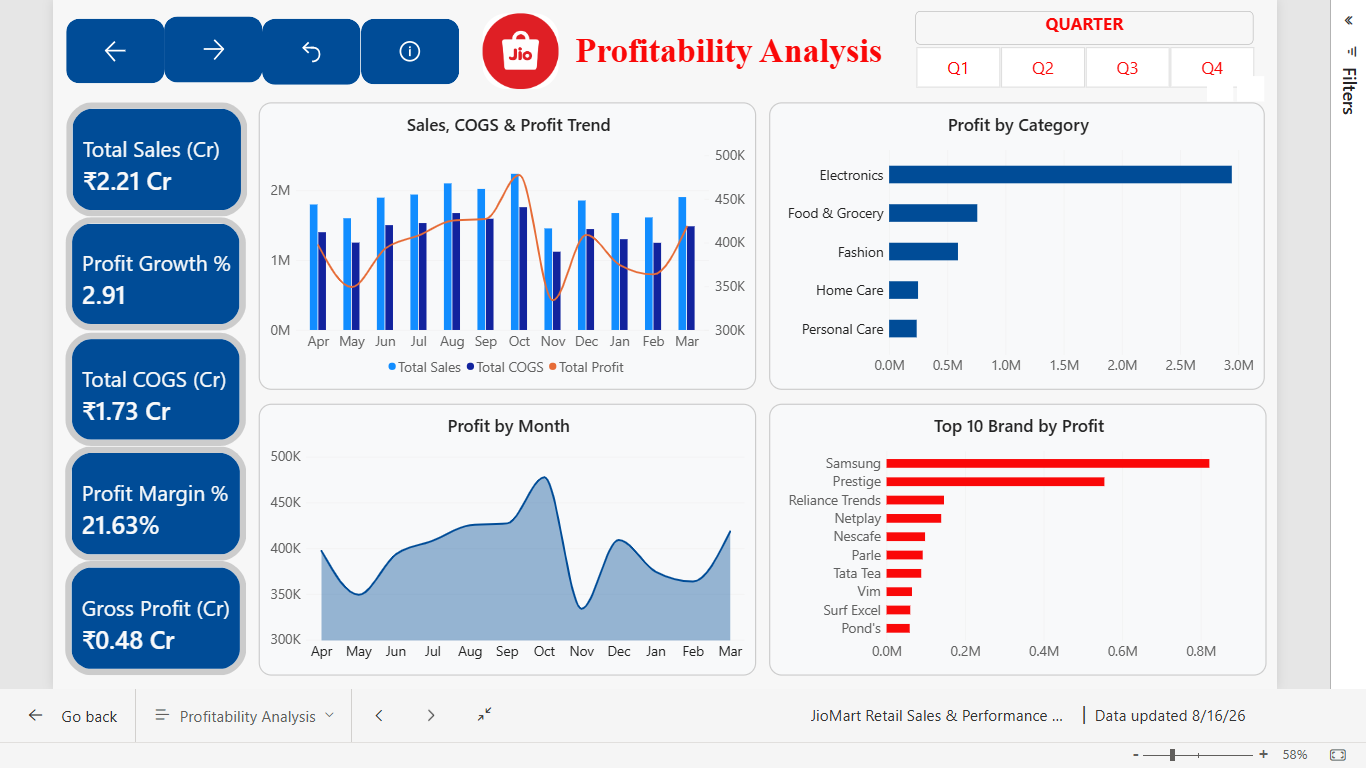

What the dashboard file says about the page in this screenshot:
{"tool":"powerbi","page":{"name":"Profitability Analysis","canvas":[1920,1080],"ordinal":1},"visuals":[{"type":"textbox","box":[1352.5,17.5,530,52.5],"z":0},{"type":"image","box":[672.2,19.8,121.2,119],"z":1000},{"type":"slicer","fields":{"Values":["Date.Quarter"]},"box":[1333.5,72.7,568.7,66.1],"z":2000},{"type":"shape","box":[819.9,19.8,513.6,119],"z":3000},{"type":"cardVisual","fields":{"Data":["Sales Measures.Total Sales (Cr)"]},"box":[19.8,160.9,284.2,179.7],"z":4000},{"type":"cardVisual","fields":{"Data":["Profitability Measures.Total Profit (Cr)"]},"box":[18.8,879.6,284.2,179.7],"z":5000},{"type":"cardVisual","fields":{"Data":["Sales Measures.Total COGS (Cr)"]},"box":[18.8,520.2,284.2,179.7],"z":6000},{"type":"cardVisual","fields":{"Data":["Profitability Measures.Profit Margin %"]},"box":[18.8,699.9,284.2,179.7],"z":7000},{"type":"cardVisual","fields":{"Data":["Profitability Measures.Profit Growth %"]},"box":[18.8,340.6,284.2,179.7],"z":8000},{"type":"lineClusteredColumnComboChart","title":"Sales, COGS & Profit Trend","fields":{"Category":["Date.Month Short"],"Y":["Sales Measures.Total Sales","Sales Measures.Total COGS"],"Y2":["Profitability Measures.Total Profit"]},"box":[321.8,160.9,780.3,450.5],"z":9000},{"type":"clusteredBarChart","title":"Profit by Category","fields":{"Category":["Sales.Category","Sales.Brand"],"Y":["Profitability Measures.Total Profit"]},"box":[1123.6,160.9,777.7,450.5],"z":10000},{"type":"clusteredBarChart","title":"Top 10 Brand by Profit","fields":{"Category":["Sales.Brand"],"Y":["Profitability Measures.Total Profit"]},"box":[1123.6,632.8,780.3,426.4],"z":11000},{"type":"lineChart","title":"Profit by Month","fields":{"Category":["Date.Month Short"],"Y":["Profitability Measures.Total Profit"]},"box":[321.8,632.8,780.3,426.4],"z":12000},{"type":"actionButton","box":[19.8,28.7,154.3,101.4],"z":13000},{"type":"actionButton","box":[174.1,26.4,154.3,103.6],"z":14000},{"type":"actionButton","box":[328.4,28.7,154.3,103.6],"z":15000},{"type":"actionButton","box":[482.7,28.7,154,103],"z":16000}]}

Visuals, with their boxes on the page's 1920x1080 design canvas (x1, y1, x2, y2). These are canvas units, not pixel positions in the 1366x768 screenshot, which may show the page scaled, cropped or inside an application window:
textbox: box(1352, 18, 1882, 70)
image: box(672, 20, 793, 139)
slicer - Date.Quarter: box(1334, 73, 1902, 139)
shape: box(820, 20, 1334, 139)
cardVisual - Sales Measures.Total Sales (Cr): box(20, 161, 304, 341)
cardVisual - Profitability Measures.Total Profit (Cr): box(19, 880, 303, 1059)
cardVisual - Sales Measures.Total COGS (Cr): box(19, 520, 303, 700)
cardVisual - Profitability Measures.Profit Margin %: box(19, 700, 303, 880)
cardVisual - Profitability Measures.Profit Growth %: box(19, 341, 303, 520)
"Sales, COGS & Profit Trend" lineClusteredColumnComboChart: box(322, 161, 1102, 611)
"Profit by Category" clusteredBarChart: box(1124, 161, 1901, 611)
"Top 10 Brand by Profit" clusteredBarChart: box(1124, 633, 1904, 1059)
"Profit by Month" lineChart: box(322, 633, 1102, 1059)
actionButton: box(20, 29, 174, 130)
actionButton: box(174, 26, 328, 130)
actionButton: box(328, 29, 483, 132)
actionButton: box(483, 29, 637, 132)
